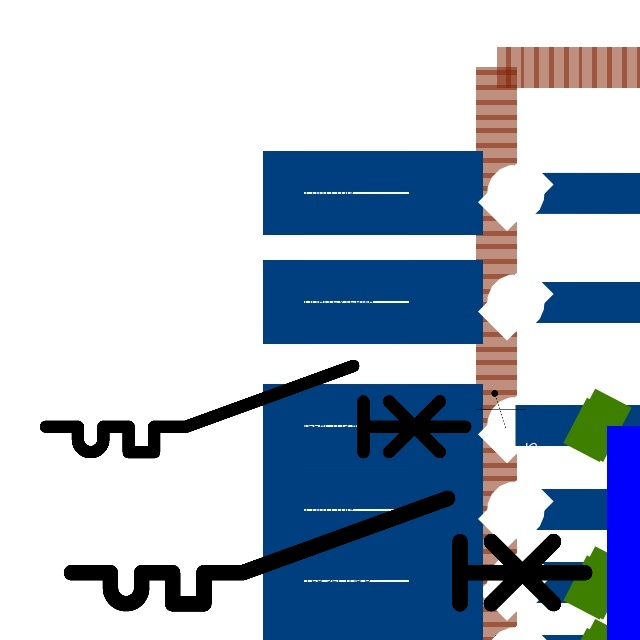interruptor_termomagnetico: (58, 485, 598, 617), (35, 355, 476, 463)
